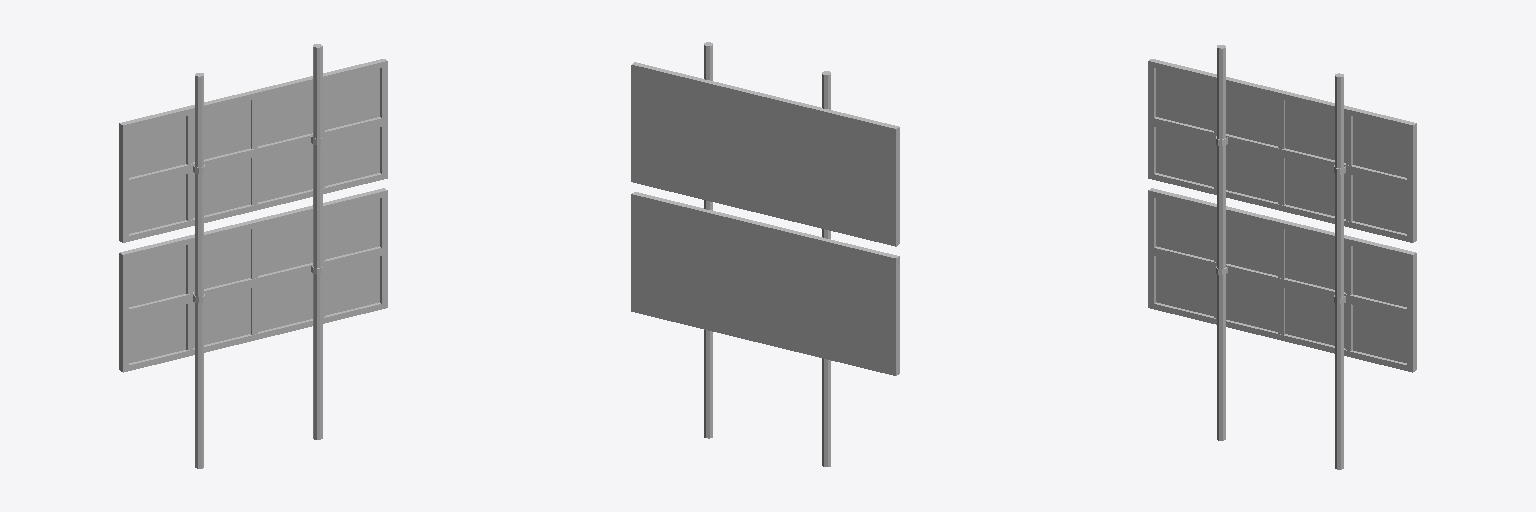
File: OutDoor-C2-1.obj
3 views of the same model, side by side, from view 1: azimuth 30°, elevation 25°; view 2: azimuth 150°, elevation 25°; view 3: azimuth 330°, elevation 25° (orthographic).
Visible parts, largest first — view 1: Cube_Cube.009; view 2: Cube_Cube.009; view 3: Cube_Cube.009.
Part boxes in pixels (x1,y1,x2,y2): Cube_Cube.009: (119,44,387,468); Cube_Cube.009: (631,42,899,466); Cube_Cube.009: (1148,45,1416,469).
Bounding box in the file's own units: 6.1 × 8.64 × 0.3318.